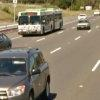buses: (16, 8, 63, 37)
